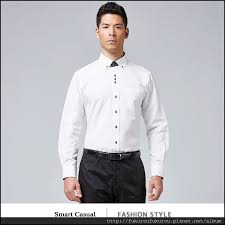F_belt: (81, 148, 140, 161)
F_dress pants: (76, 151, 148, 202)
F_shirt: (59, 54, 168, 184)
